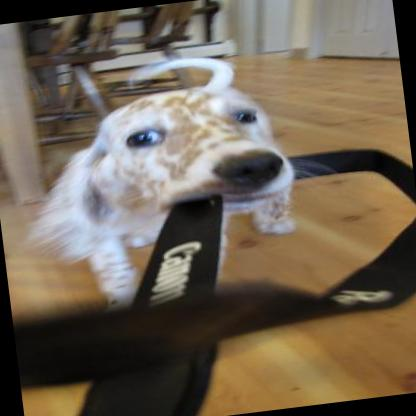English_setter: (4, 44, 305, 316)
